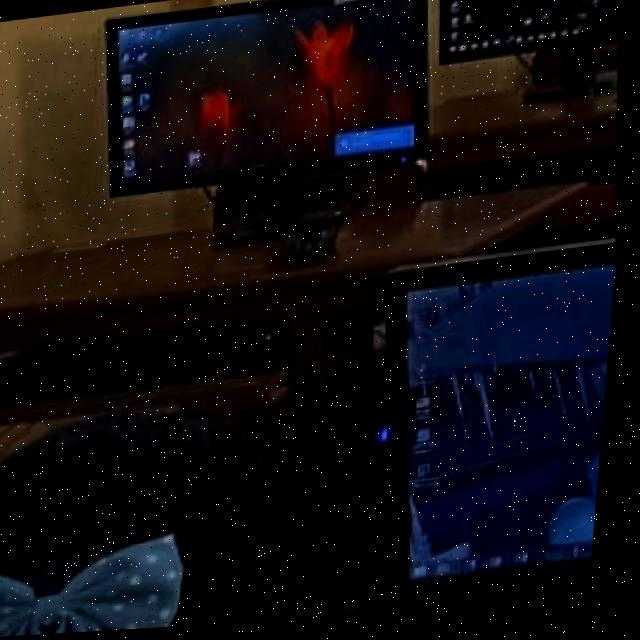onscreen: (112, 0, 428, 191), (444, 0, 618, 64)
